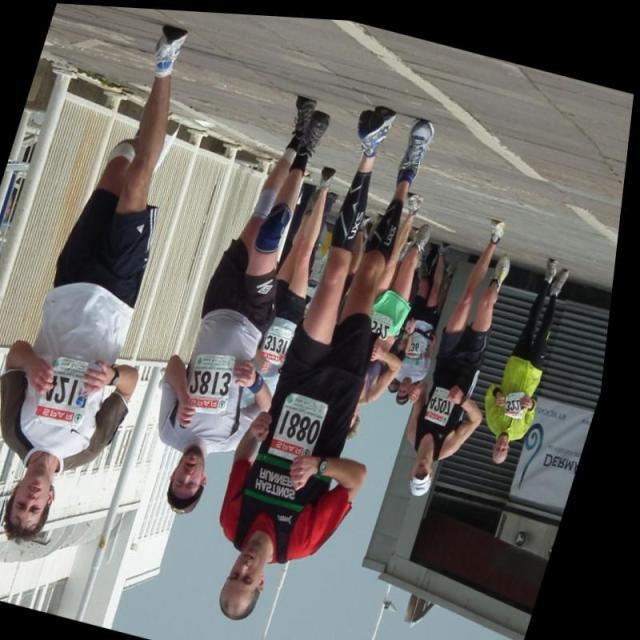dorsal: (38, 345, 118, 436), (270, 382, 352, 469), (186, 337, 256, 422), (428, 372, 473, 426), (260, 315, 304, 364), (508, 378, 542, 418)
